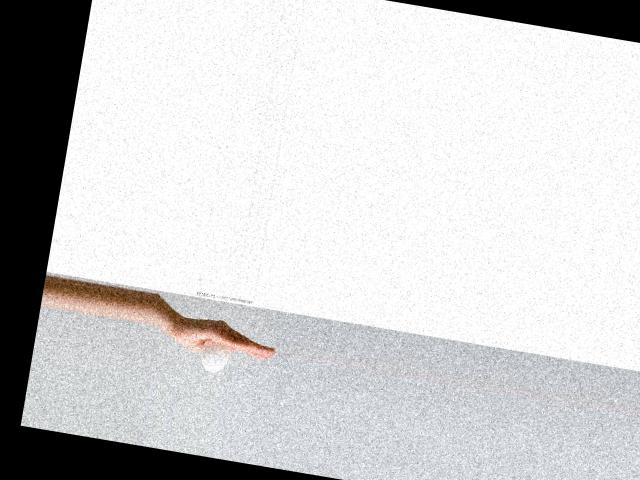egg: (199, 337, 230, 374)
